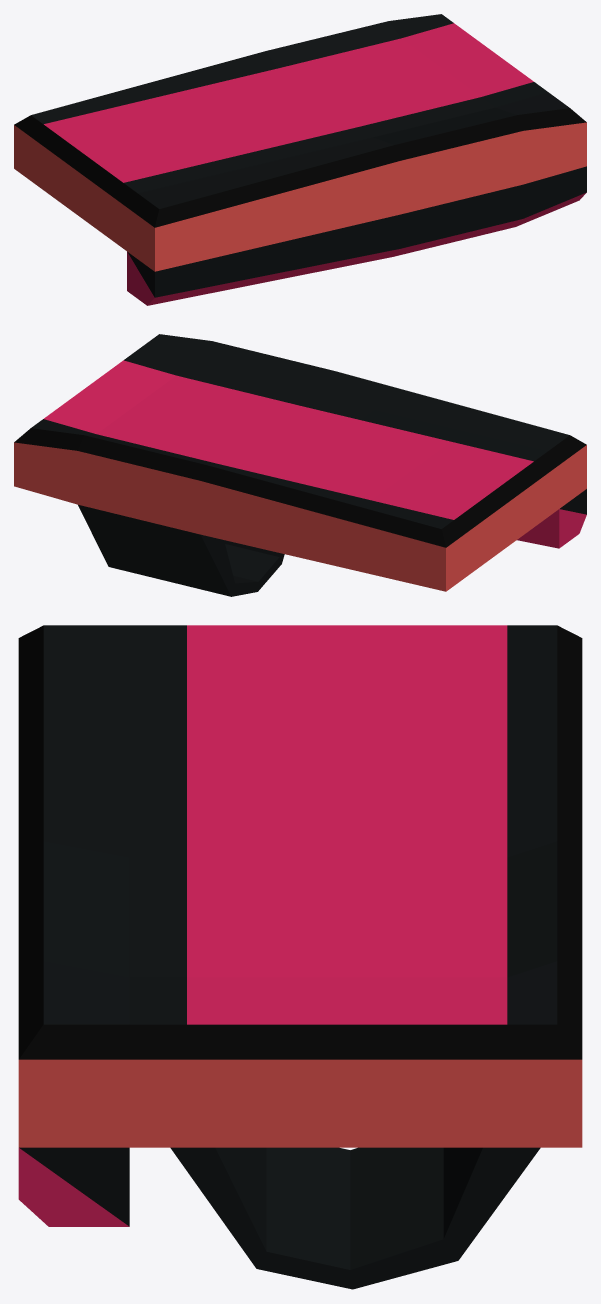
The model's file is Goalkeeper_1_Blocker.fbx.
The picture shows the model from 3 angles, top to bottom: view 1: azimuth 30°, elevation 25°; view 2: azimuth 150°, elevation 25°; view 3: azimuth 270°, elevation 25°; orthographic projection. The views are drawn at different scales.
Visible parts, largest first — view 1: Goalkeeper_1_Blocker; view 2: Goalkeeper_1_Blocker; view 3: Goalkeeper_1_Blocker.
Part boxes in pixels (<box>): Goalkeeper_1_Blocker: <box>14,14,586,305</box>; Goalkeeper_1_Blocker: <box>14,334,586,596</box>; Goalkeeper_1_Blocker: <box>18,625,582,1289</box>.
Bounding box in the file's own units: 51.97 × 18.87 × 29.34.
